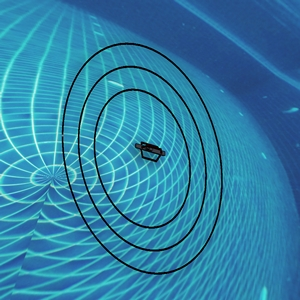circle: (43, 37, 265, 283)
